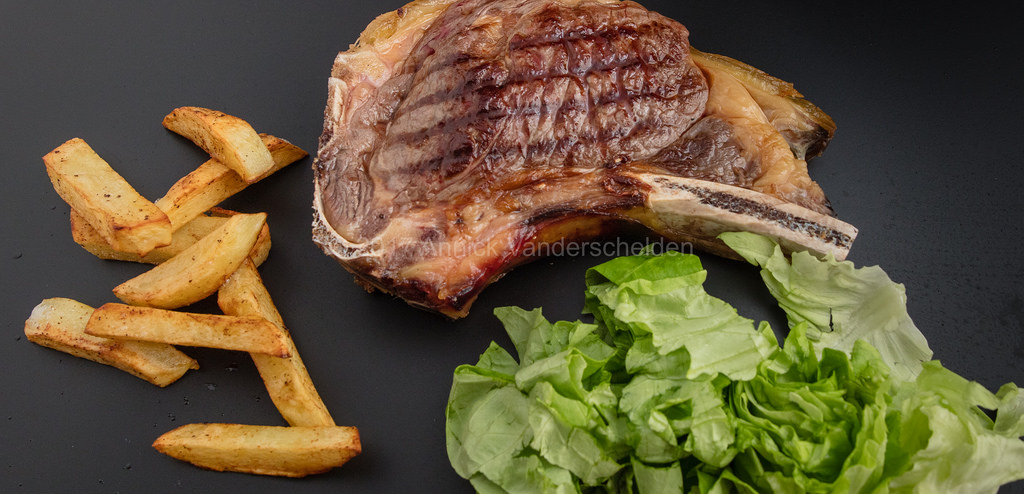chopped lettuce: (486, 288, 937, 465)
